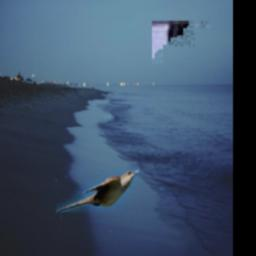Crow: (152, 22, 215, 219)
Cuckoo: (56, 169, 139, 212)
